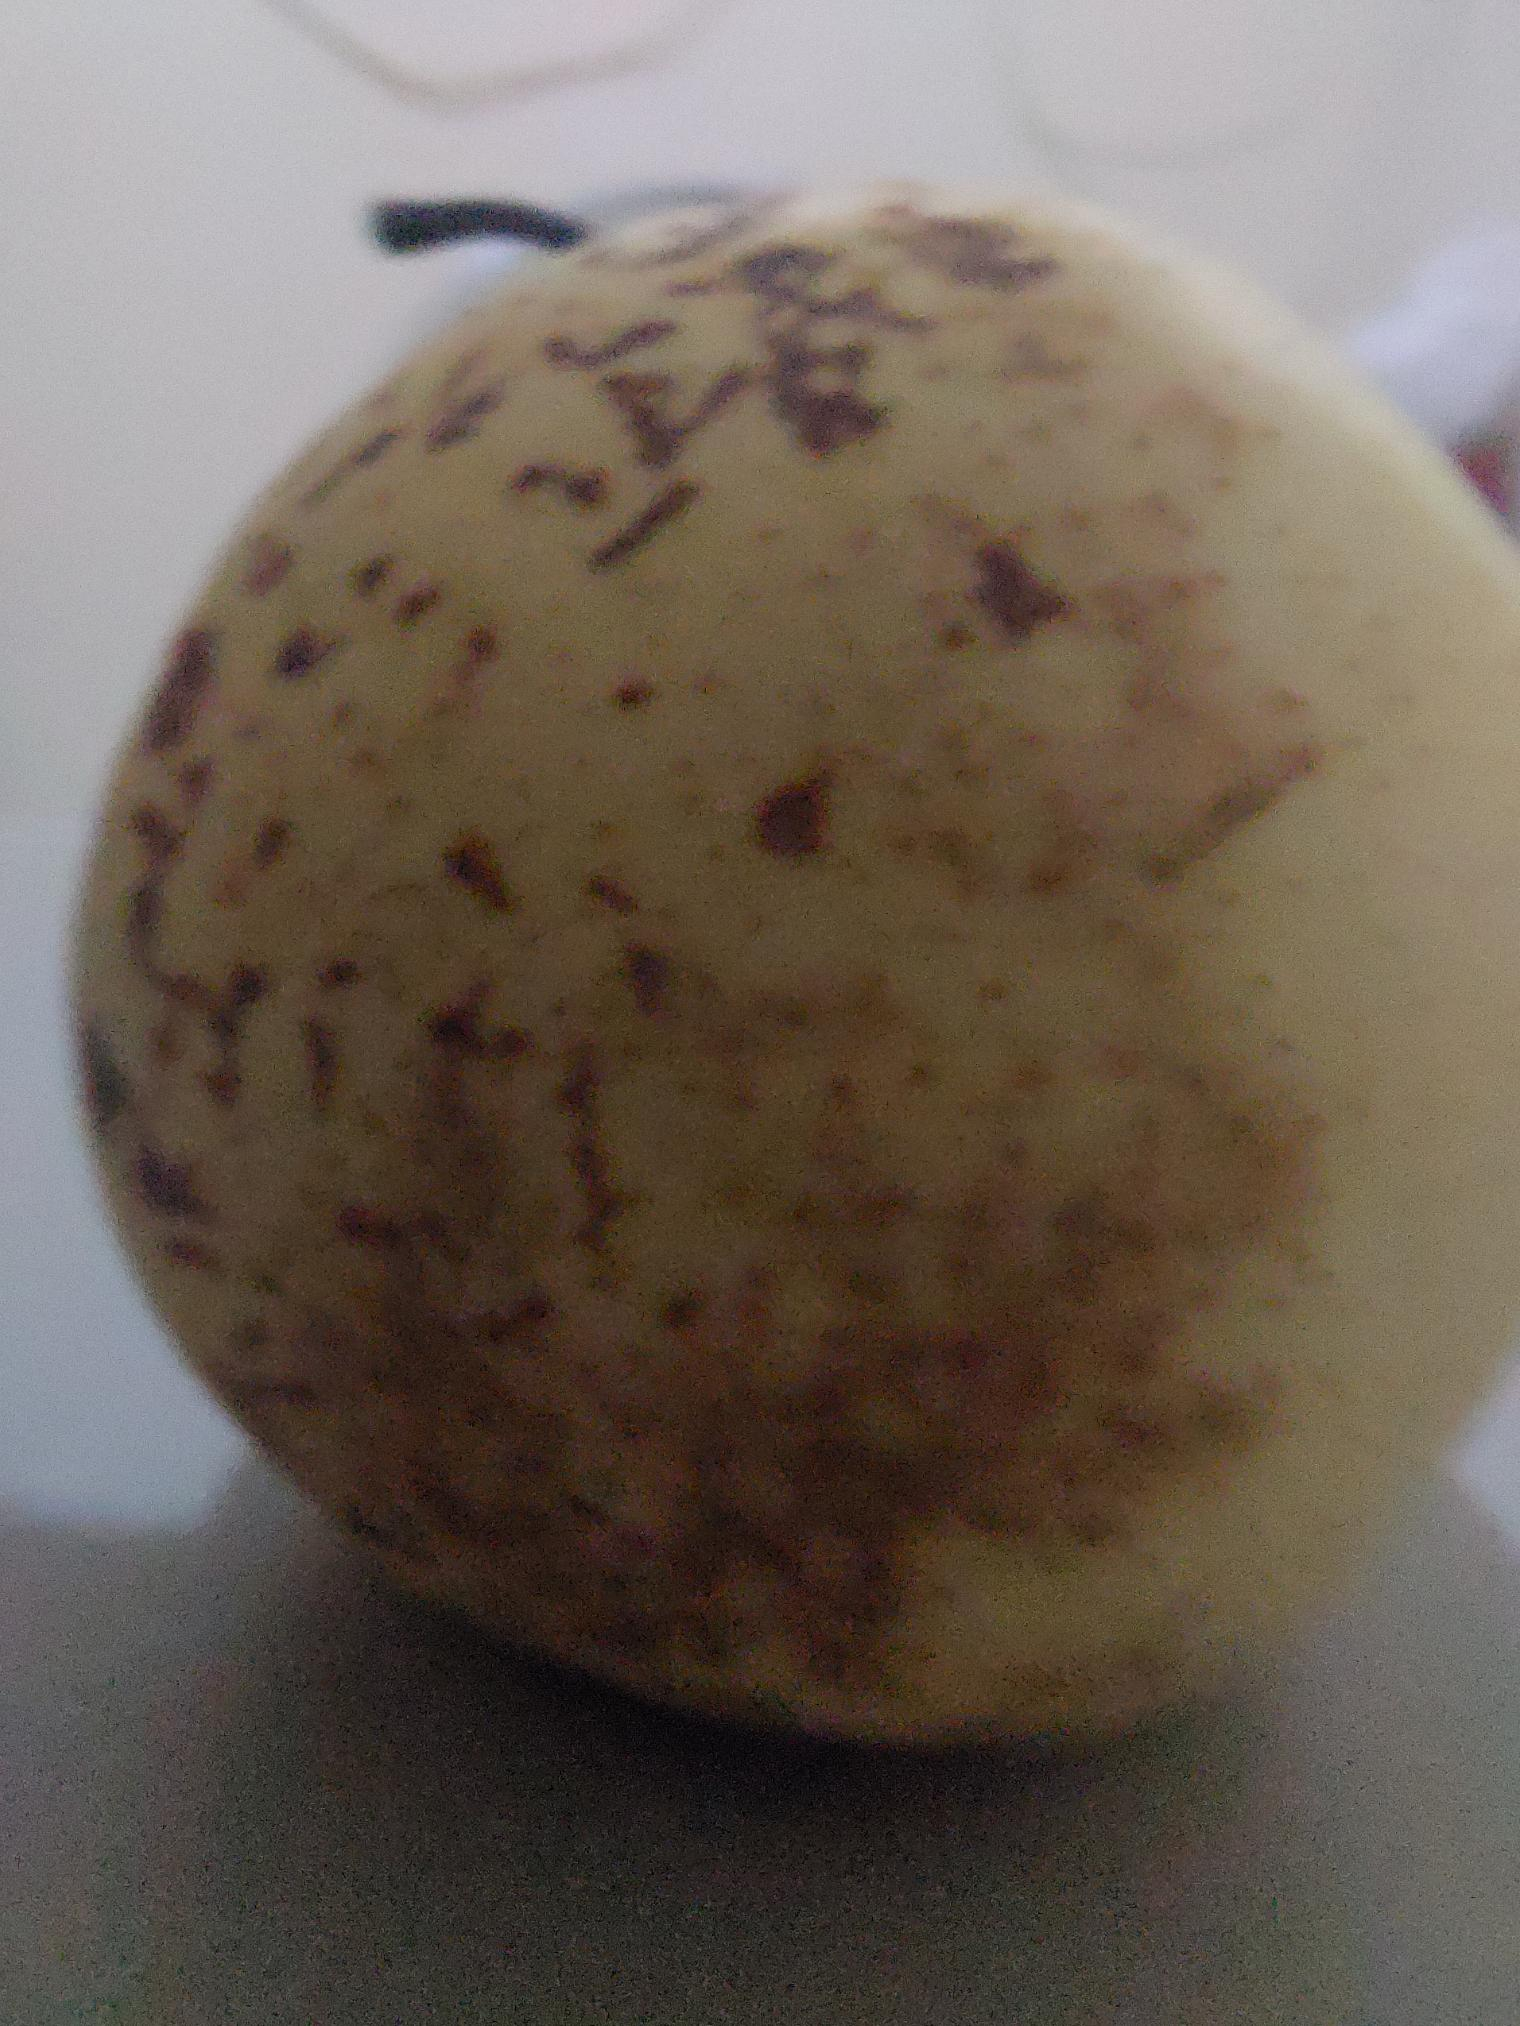Bad Pear: (72, 158, 1440, 1691)
